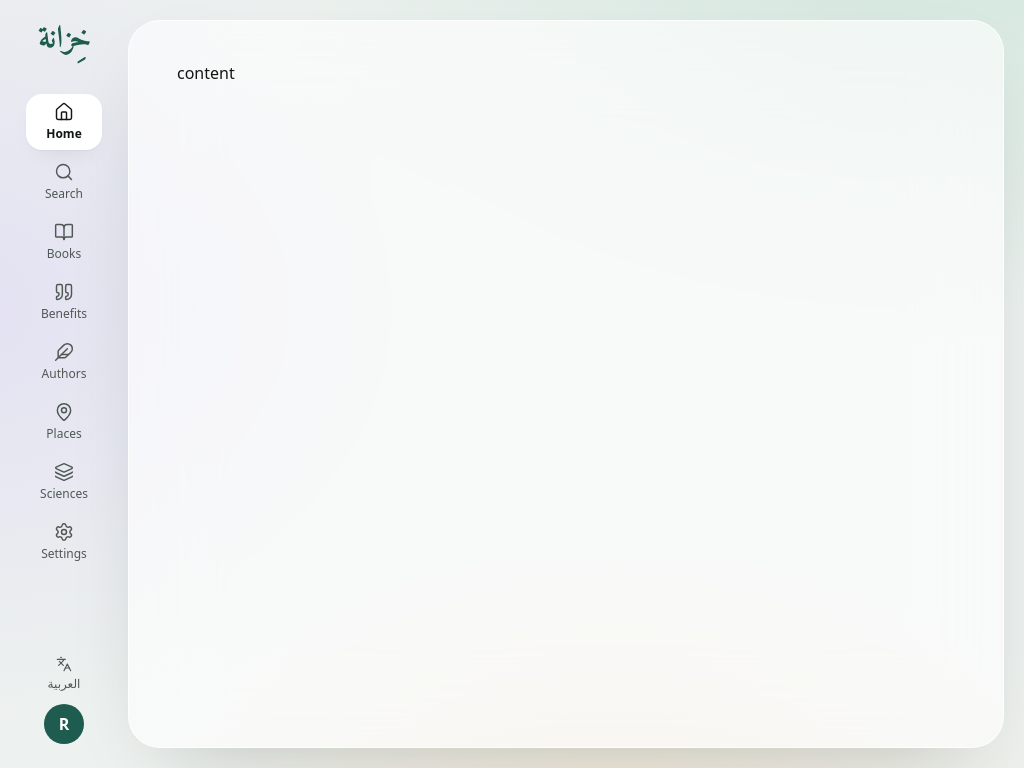
Test: Layout account controls › the account menu opens and closes, with the settings and signing out in it
Check: the button "Sign out" is not shown
Click the button named "Your account": [64, 724] box [40,700,88,748]
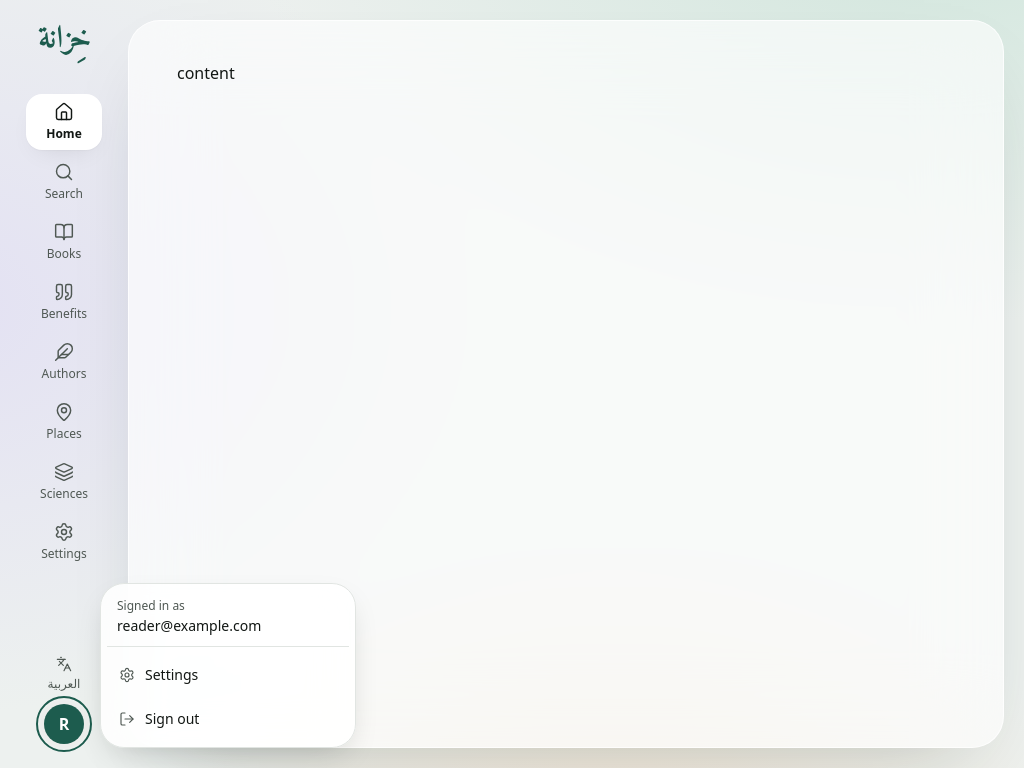
Check: the button named "Your account" is expanded, box [40,700,88,748]
Check: the text "reader@example.com" is shown, box [117,616,261,635]
Check: the button "Sign out" is shown, box [107,697,349,741]
Escape closes it and puts focus back on the button
Press Escape
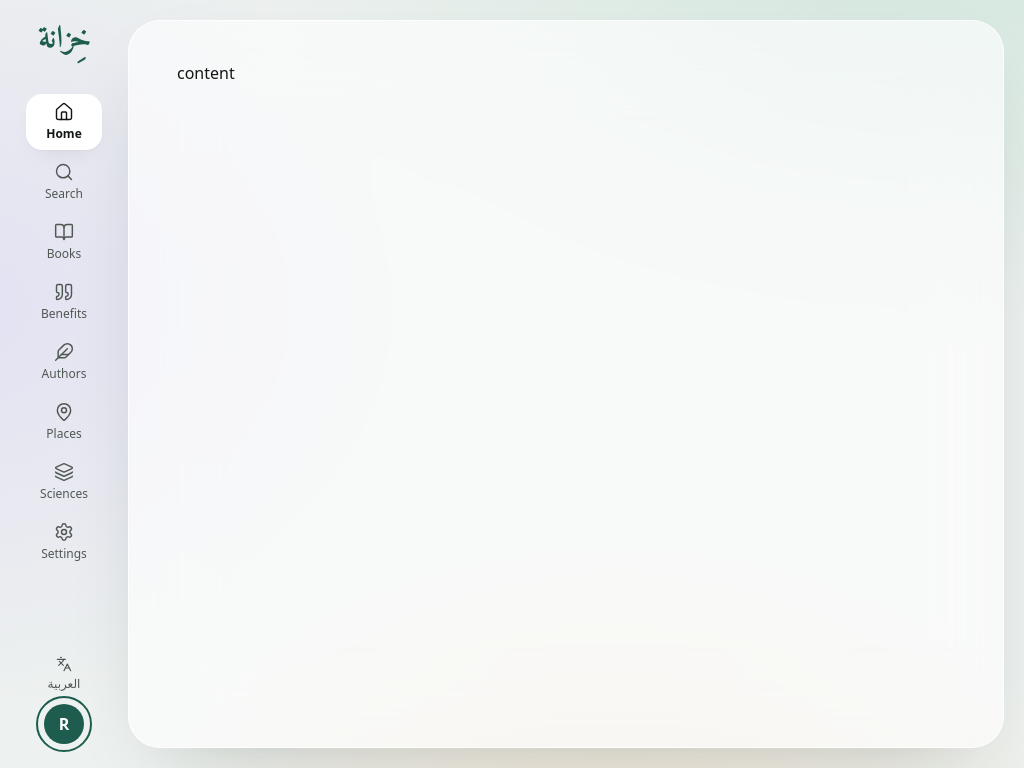
So does a click anywhere else
Click the button named "Your account": [64, 724] box [40,700,88,748]
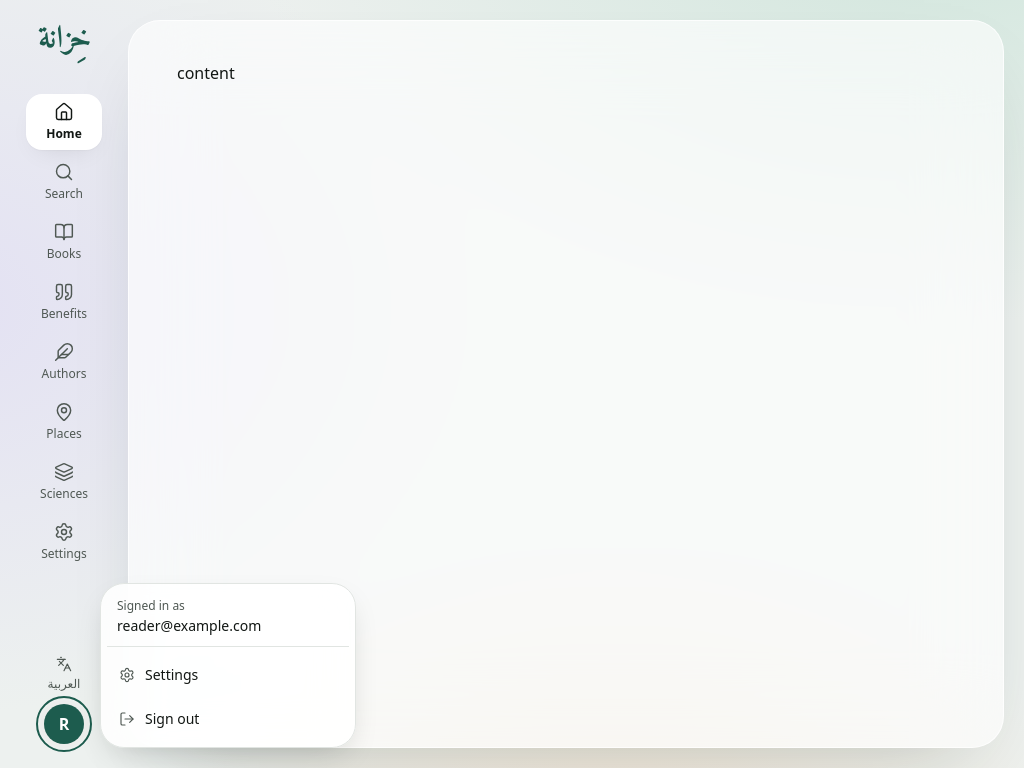
Click the text "content": [206, 73] box [177,62,235,84]
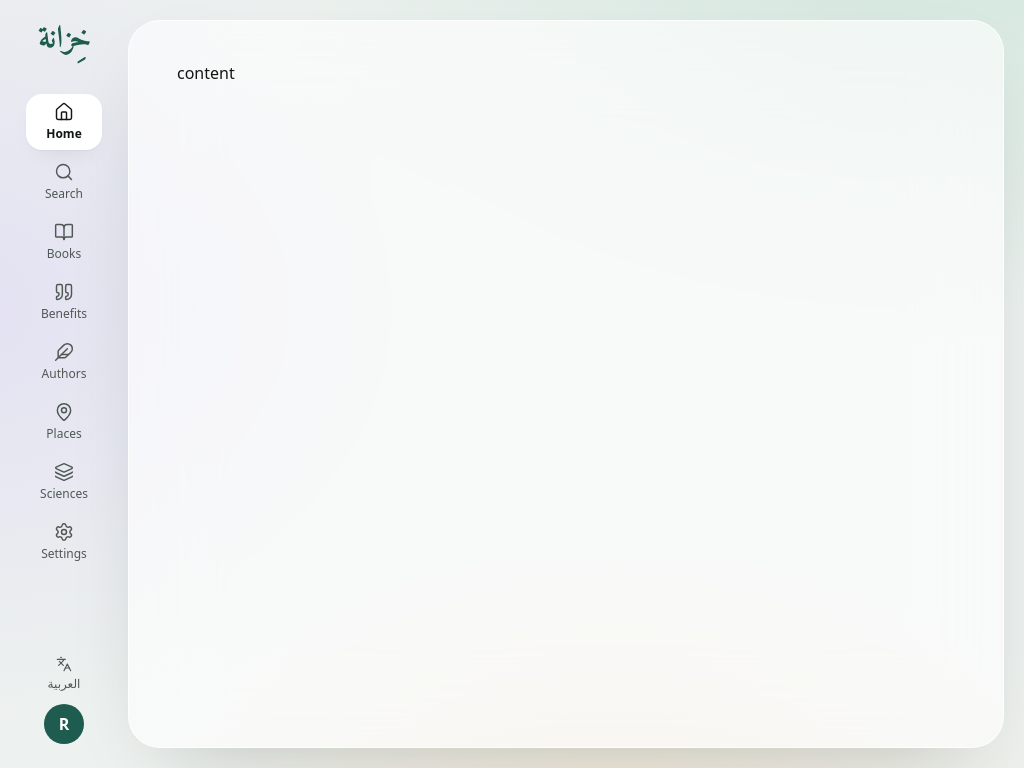
Check: the button "R" is collapsed, box [40,700,88,748]
